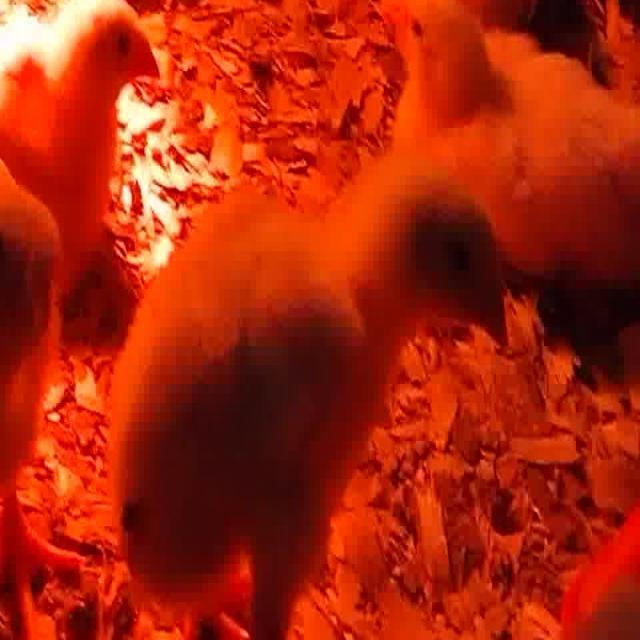poussin: (109, 164, 510, 636), (386, 0, 639, 276), (0, 17, 167, 252)
